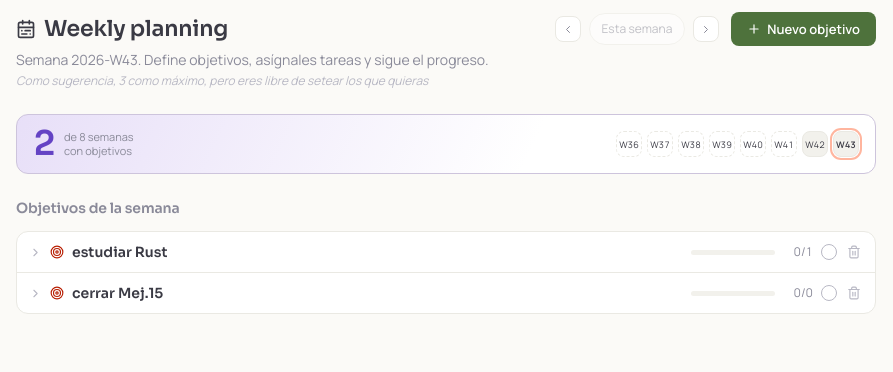
Test: WeeklyPlanningView › un objetivo que quedó en una semana pasada se puede traer a ésta
The image size is (893, 372).
Click the button named "Semana anterior". click: point(568, 29)
box: [554,16,580,42]
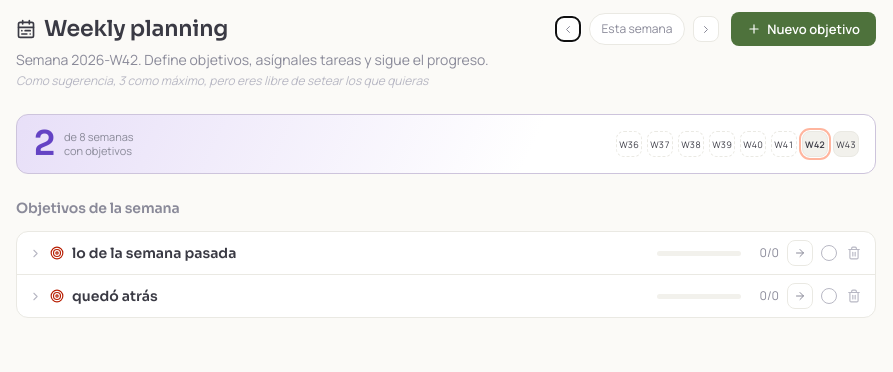
expect the button "quedó atrás" is shown: met, box [72,287,649,305]
# Por su nombre exacto: otros tests dejaron objetivos en la misma semana.
Click the button named "Traer quedó atrás a la semana actual". click: point(800, 296)
box: [787,283,813,309]
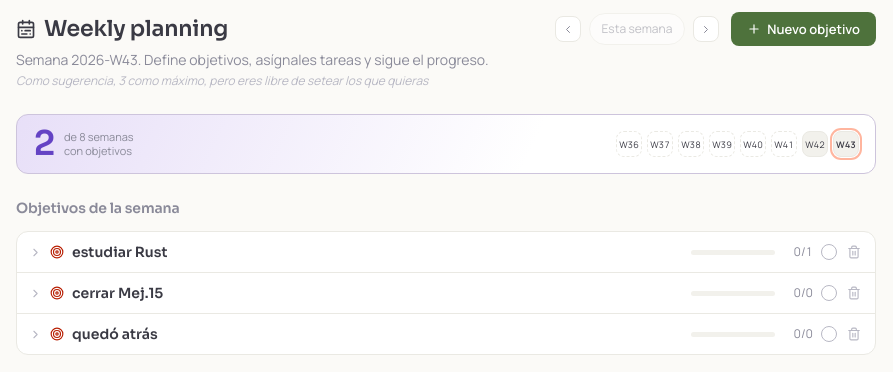
expect the button "quedó atrás" is shown: met, box [72,325,683,343]
expect the button "Esta semana" is disabled: met, box [588,13,685,45]
